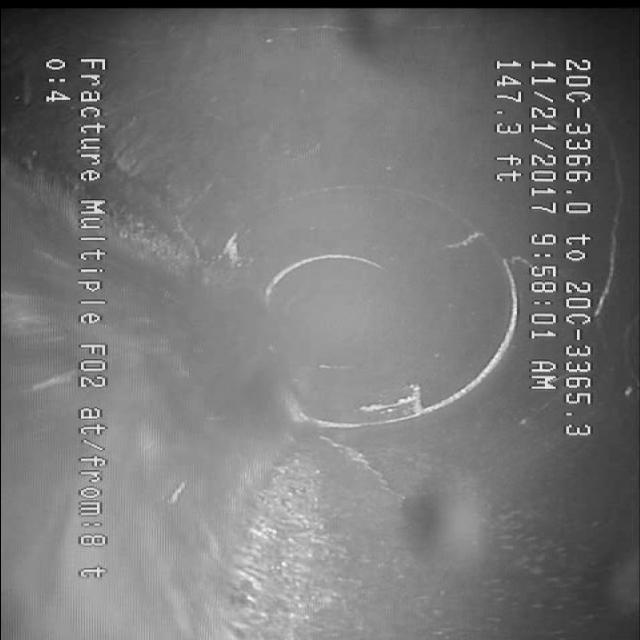Fracture: (307, 443, 424, 511)
